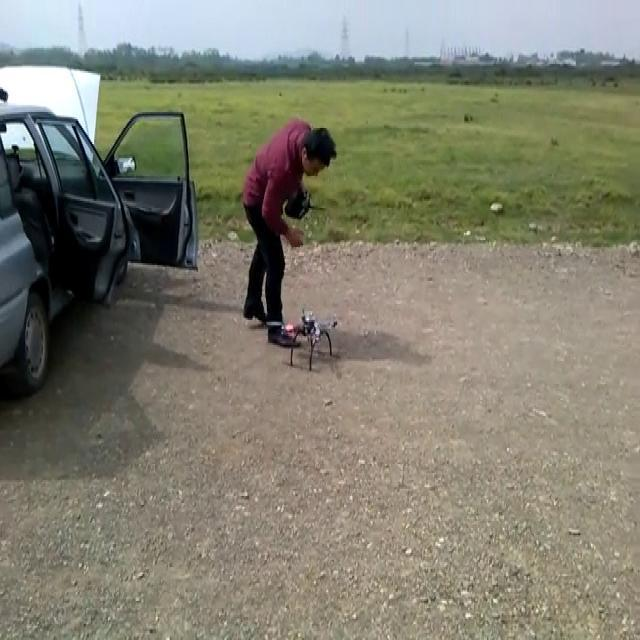drone: (266, 304, 346, 364)
